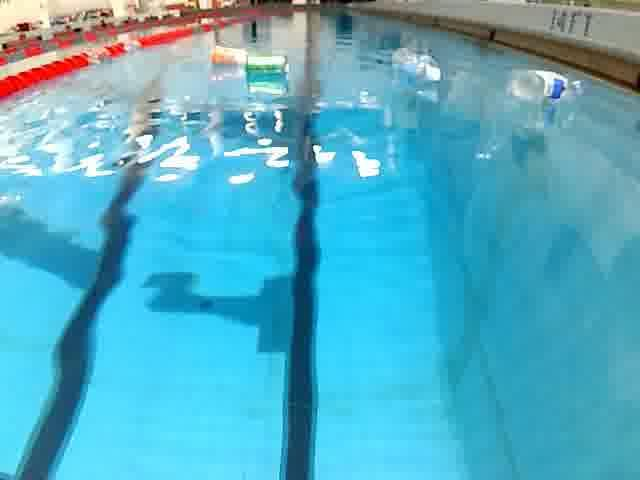Bottle: (498, 65, 590, 109), (386, 44, 446, 88), (202, 42, 255, 70)
Can: (242, 51, 294, 81)
